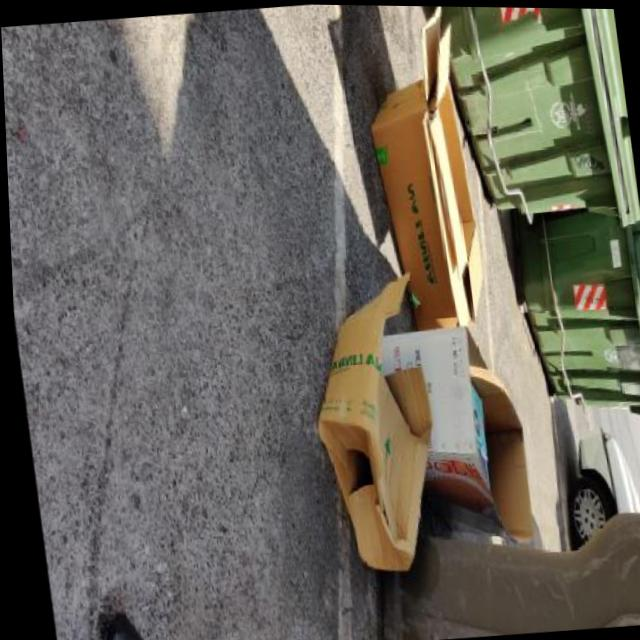cardboard: (295, 269, 451, 579), (352, 5, 490, 333), (369, 317, 537, 557)
